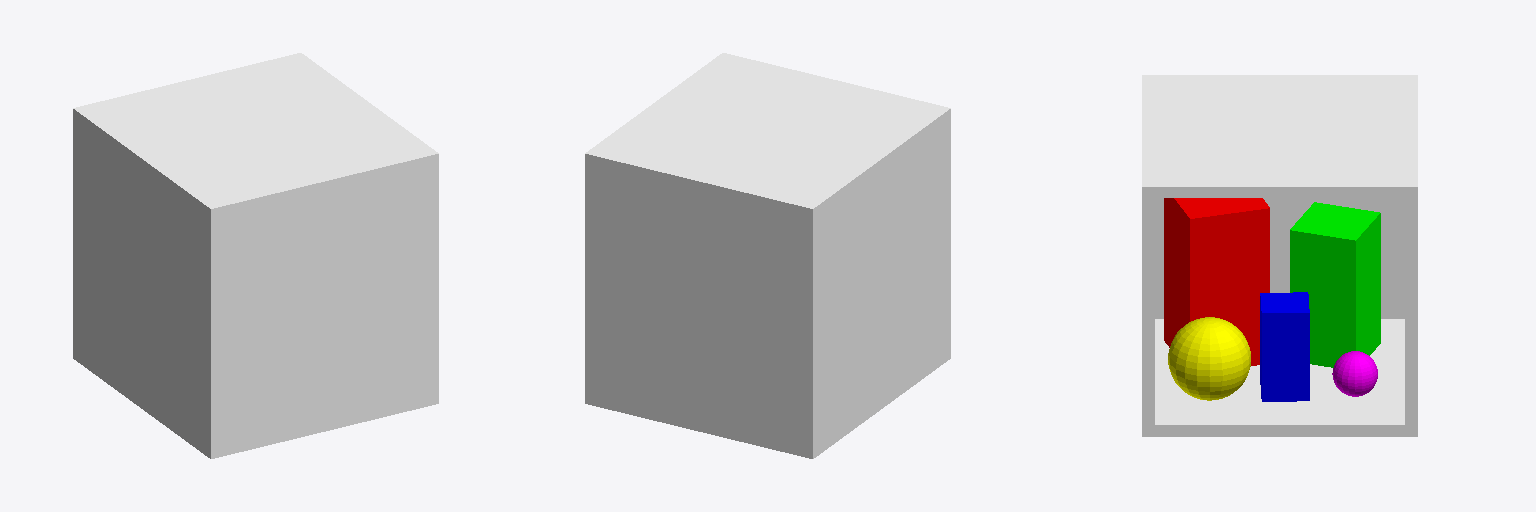
File: cornellBox.obj
3 renders of one model, left to right at view 1: azimuth 30°, elevation 25°; view 2: azimuth 150°, elevation 25°; view 3: azimuth 270°, elevation 25°, orthographic.
Visible parts, largest first — view 1: pCube1 cornellBox; view 2: pCube1 cornellBox; view 3: pCube1 cornellBox, cornellBox pCube2, cornellBox pasted__pCube2, cornellBox pSphere1, cornellBox pasted__pasted__pCube2, cornellBox pasted__pSphere1.
Boxes of the visible parts, <box> form: pCube1 cornellBox: <box>73,53,438,458</box>; pCube1 cornellBox: <box>585,53,950,458</box>; pCube1 cornellBox: <box>1142,75,1417,436</box>; cornellBox pCube2: <box>1164,198,1269,365</box>; cornellBox pasted__pCube2: <box>1290,202,1380,367</box>; cornellBox pSphere1: <box>1168,317,1250,400</box>; cornellBox pasted__pasted__pCube2: <box>1260,292,1309,401</box>; cornellBox pasted__pSphere1: <box>1332,351,1377,396</box>.
Bounding box in the file's own units: 1.05 × 1.1 × 1.1.